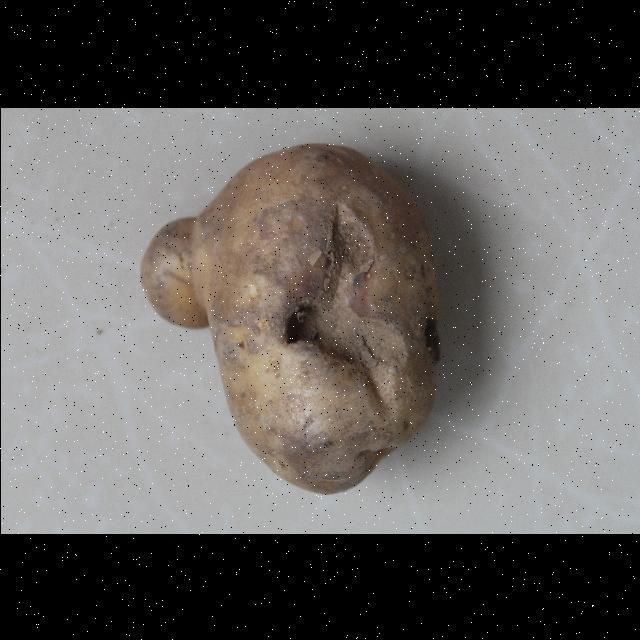Diseased-fungal potato: (192, 141, 508, 504)
